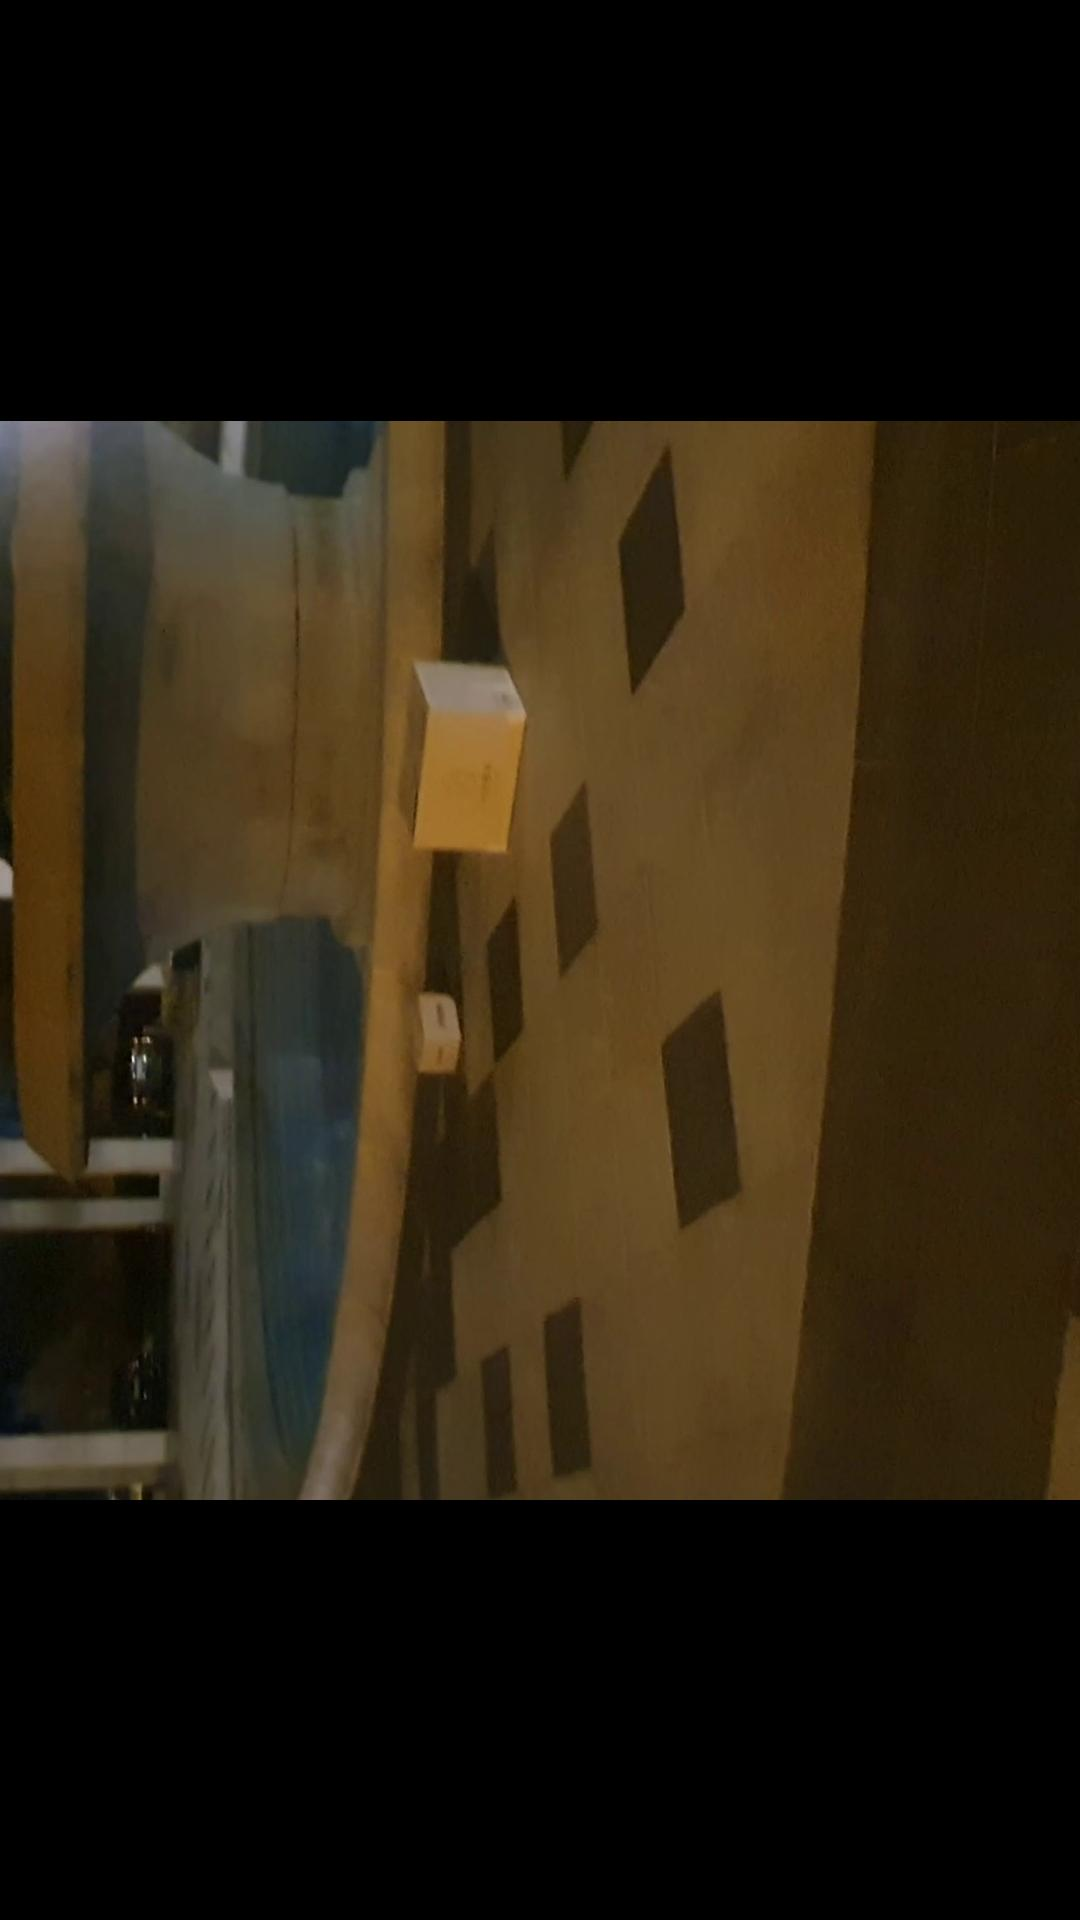Box: (385, 647, 535, 844), (396, 960, 467, 1095)
